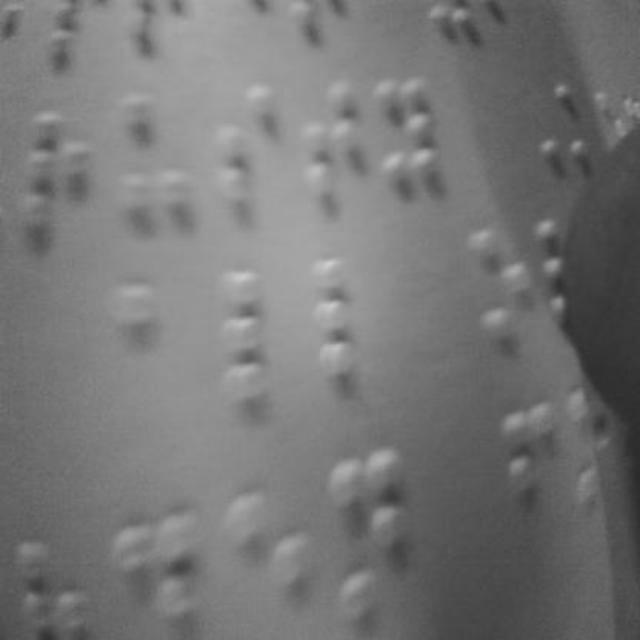braiile: (326, 449, 408, 613), (15, 100, 96, 246), (230, 486, 304, 640), (116, 86, 192, 226), (222, 264, 298, 392), (212, 80, 284, 214), (312, 254, 386, 382), (106, 277, 176, 407), (299, 72, 363, 206), (376, 68, 442, 195)
